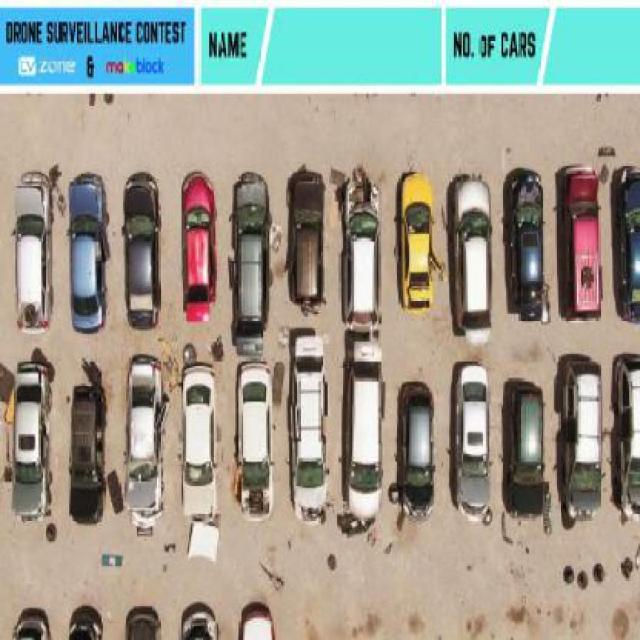car: (443, 171, 496, 348), (61, 170, 116, 332), (287, 328, 329, 530), (557, 163, 606, 319), (11, 170, 56, 337), (231, 351, 277, 514), (280, 166, 330, 314), (346, 334, 384, 528), (13, 360, 56, 526), (120, 171, 166, 326), (504, 165, 548, 320), (180, 362, 222, 522), (452, 362, 494, 518), (124, 350, 159, 535), (178, 169, 222, 314), (505, 375, 549, 520), (233, 177, 270, 349), (396, 378, 438, 524), (342, 177, 381, 329), (65, 382, 105, 528), (566, 356, 602, 517), (400, 175, 434, 316), (613, 350, 640, 520), (617, 162, 640, 309), (14, 609, 54, 640), (238, 606, 274, 640), (180, 609, 214, 640), (72, 604, 100, 640), (127, 609, 157, 640)
